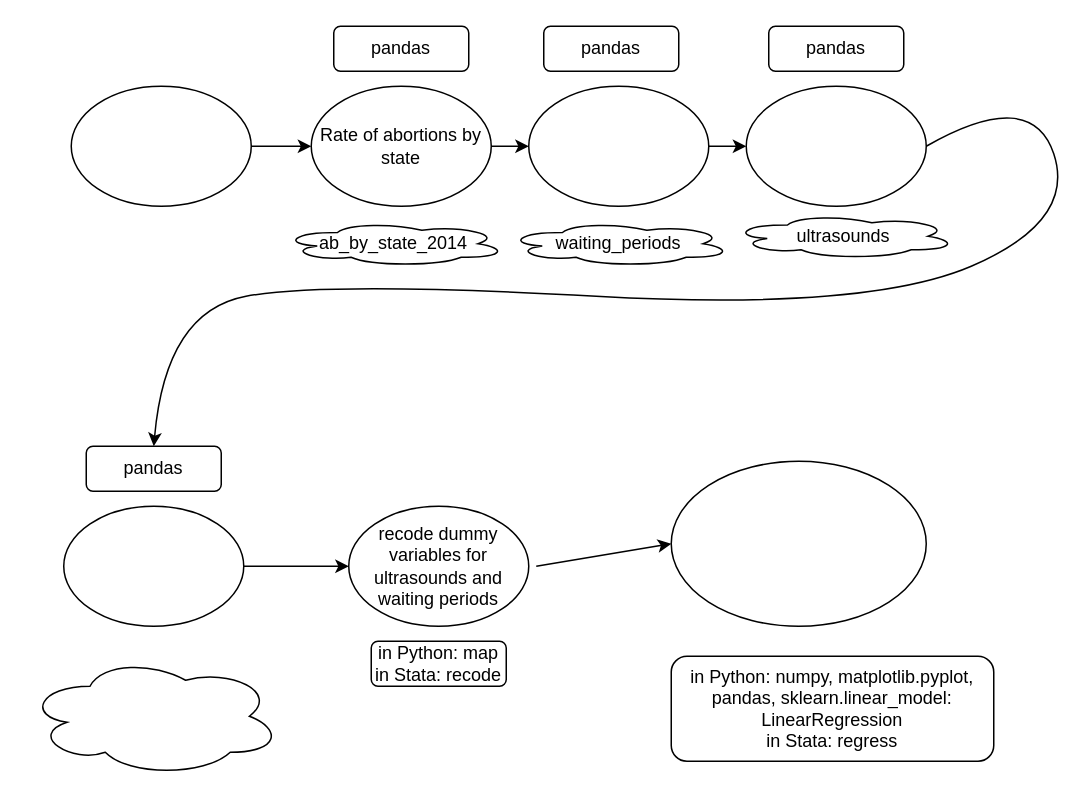
The diagram is 1085 pixels wide and 803 high, and some of its shapes have lost their labels. The centre of each missing label's shape, as x and y in pixels:
"abortion_restrictions" belongs at point 153,715.
"Merge datasets" belongs at point 153,565.
"Regress waiting periods and ultrasounds on abortion rate by state" belongs at point 798,543.
"start" belongs at point 160,145.
"State policies around abortion: mandatory ultrasounds" belongs at point 835,145.
"State policies around abortion: waiting periods" belongs at point 618,145.
